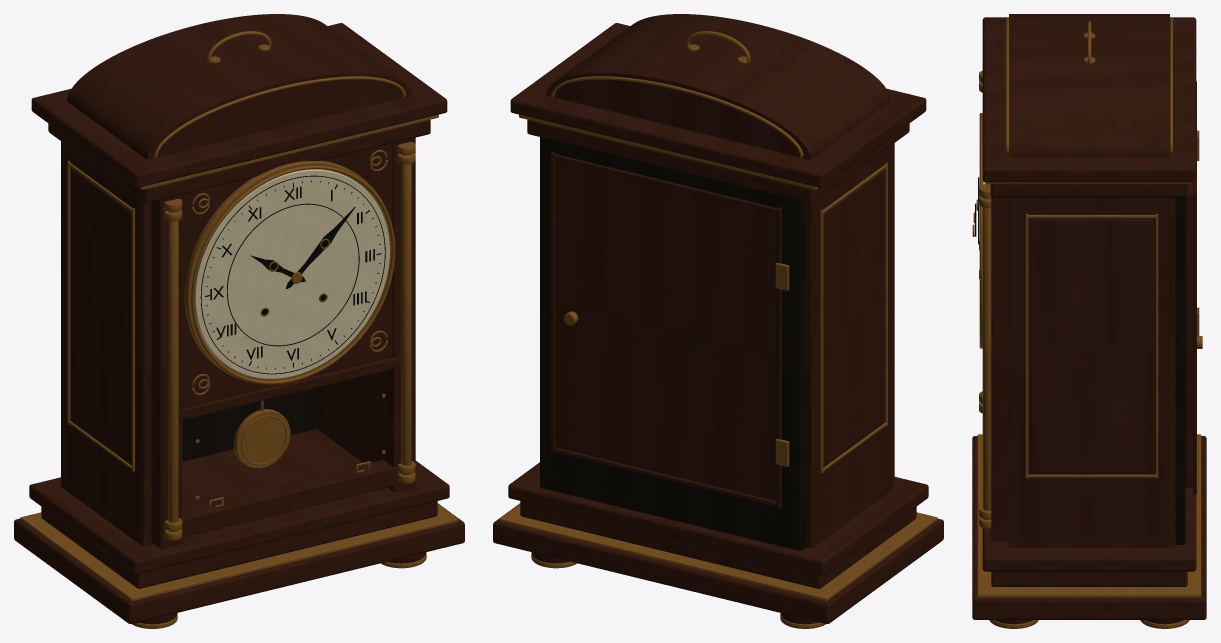
File: gpt-zimingzhong-v1.glb
The picture shows the model from 3 angles, left to right: view 1: azimuth 30°, elevation 25°; view 2: azimuth 150°, elevation 25°; view 3: azimuth 270°, elevation 25°; orthographic projection.
Visible parts, largest first — view 1: 18_木壳铜饰, 18_表盘, 18_钟摆; view 2: 18_木壳铜饰; view 3: 18_木壳铜饰, 18_表盘.
Part boxes in pixels (x1,y1,x2,y2): 18_木壳铜饰: [14, 14, 464, 628]; 18_表盘: [184, 160, 395, 384]; 18_钟摆: [234, 400, 290, 468]; 18_木壳铜饰: [493, 14, 943, 628]; 18_木壳铜饰: [972, 14, 1206, 628]; 18_表盘: [979, 113, 990, 348].
Bounding box in the file's own units: 0.3 × 0.4498 × 0.18.
Materials: 5 (5 with a texture image).
